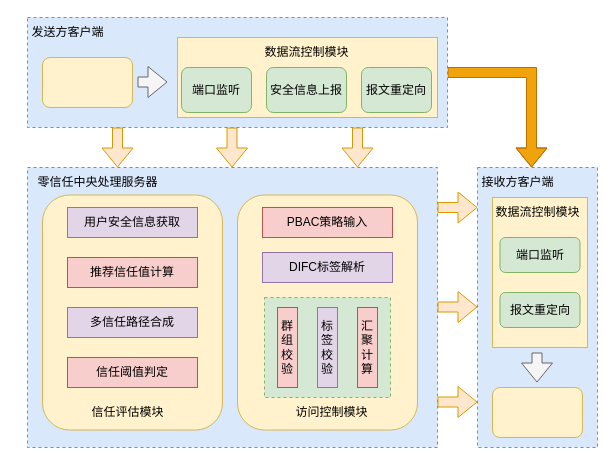
Some shapes in this 615 by 465 pixel diagram are drawn without their labels. The centre of each missing label's shape, as x and y in pixels:
传输进程: point 87,82
接收进程: point 537,412
